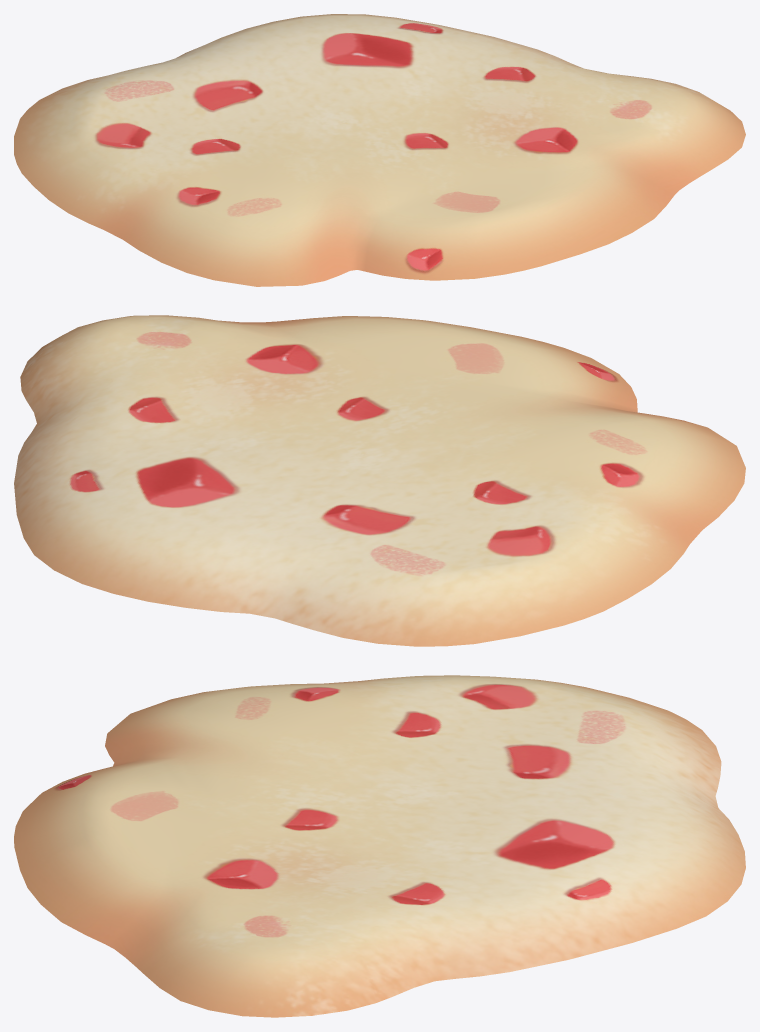
File: 冰淇淋-道具-冰淇淋（大）.FBX
3 renders of one model, top to bottom at view 1: azimuth 30°, elevation 25°; view 2: azimuth 150°, elevation 25°; view 3: azimuth 270°, elevation 25°, orthographic. The views are drawn at different scales.
Visible parts, largest first — view 1: 冰淇淋-道具-冰淇淋（大）; view 2: 冰淇淋-道具-冰淇淋（大）; view 3: 冰淇淋-道具-冰淇淋（大）.
Boxes of the visible parts, x1,y1,x2,y2 form: 冰淇淋-道具-冰淇淋（大）: (14,14,745,286); 冰淇淋-道具-冰淇淋（大）: (14,315,745,646); 冰淇淋-道具-冰淇淋（大）: (14,675,745,1017).
Bounding box in the file's own units: 19.22 × 0.9875 × 17.39.
